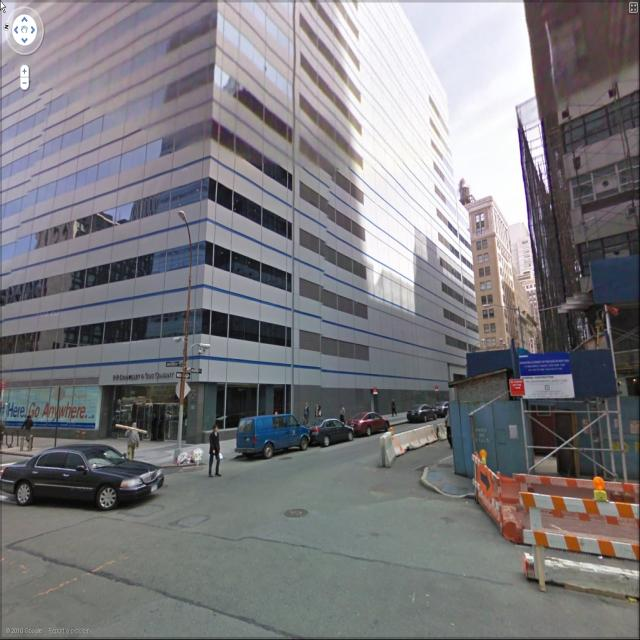b_1: (1, 4, 474, 363), (514, 1, 640, 353), (464, 194, 524, 350)
